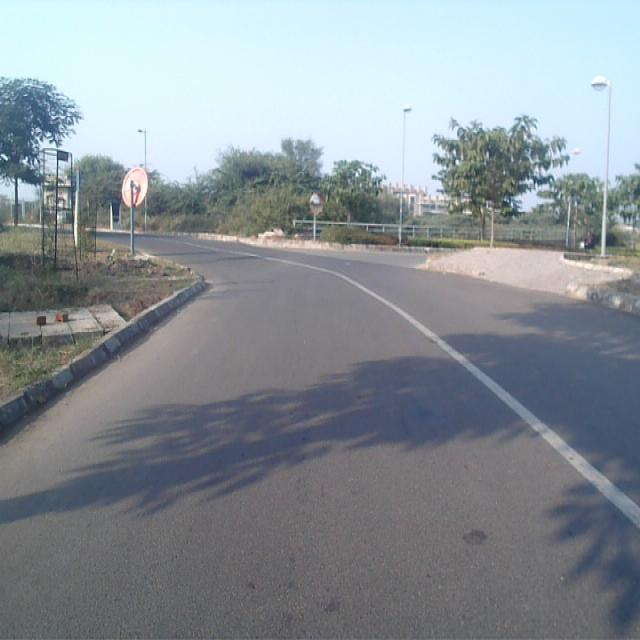lane: (0, 241, 640, 640)
